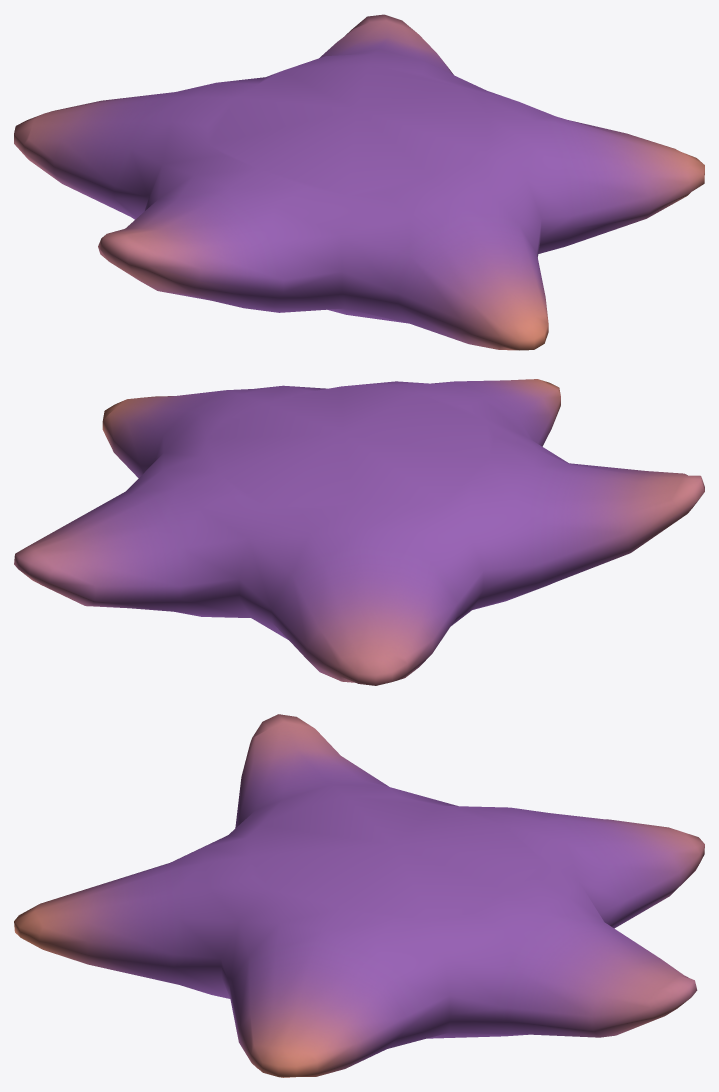
The model's file is NormalStarfish.fbx.
3 views of the same model, one above another, from view 1: azimuth 30°, elevation 25°; view 2: azimuth 150°, elevation 25°; view 3: azimuth 270°, elevation 25° (orthographic).
Visible parts, largest first — view 1: starfish; view 2: starfish; view 3: starfish.
Boxes of the visible parts, bbox=[...] form: starfish: bbox=[14, 14, 704, 350]; starfish: bbox=[14, 379, 704, 685]; starfish: bbox=[14, 714, 704, 1077].
Size of the model in its own units: 55.29 by 13.24 by 56.23.
